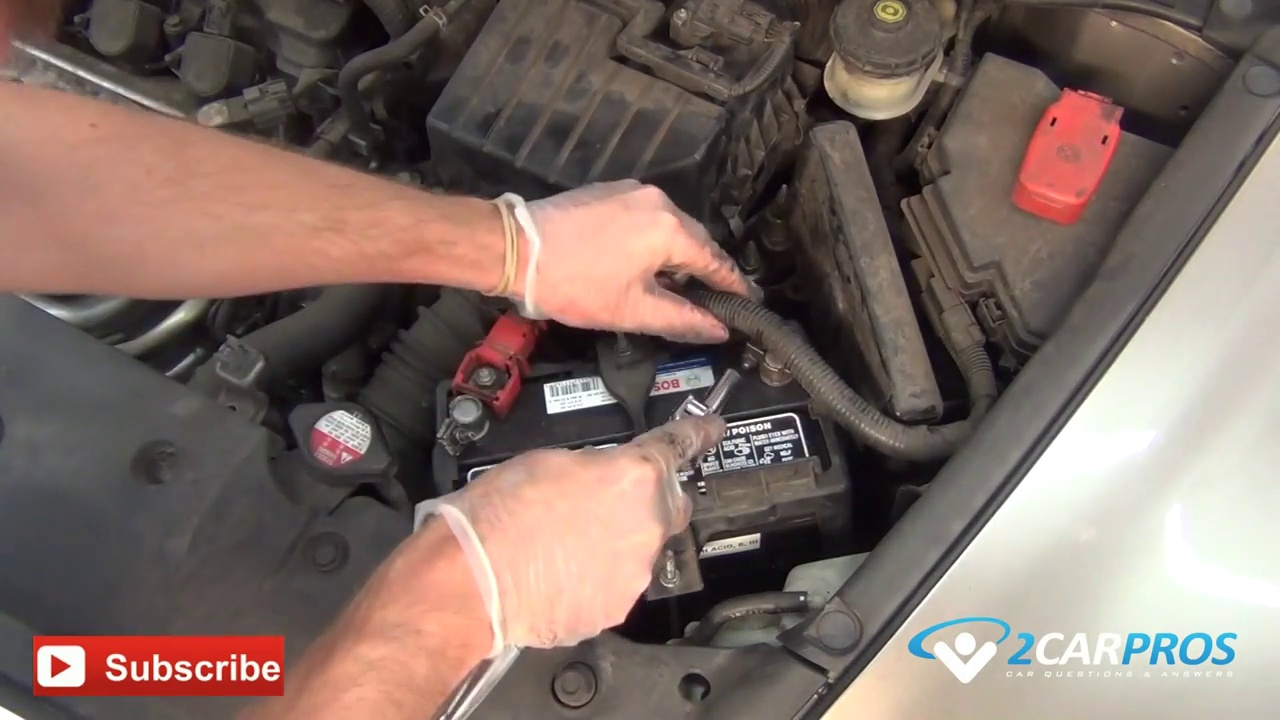battery: (399, 319, 871, 552)
neg_touched: (672, 220, 843, 415)
pos_connected: (419, 292, 538, 463)
